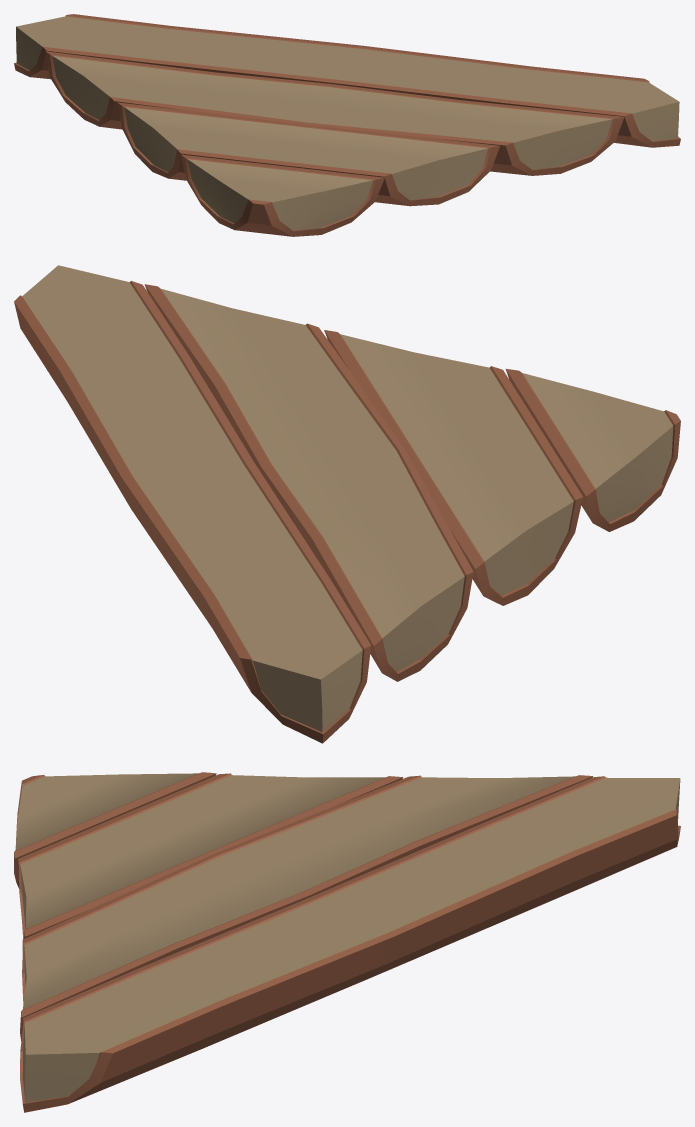
The model's file is LightWoodFloorMedium4BeamWedgePlatform1.fbx.
3 renders of one model, top to bottom at view 1: azimuth 30°, elevation 25°; view 2: azimuth 150°, elevation 25°; view 3: azimuth 270°, elevation 25°, orthographic. The views are drawn at different scales.
Parts seen in each view (by area): view 1: LightWoodFloorMedium4BeamWedgePlatform1; view 2: LightWoodFloorMedium4BeamWedgePlatform1; view 3: LightWoodFloorMedium4BeamWedgePlatform1.
Boxes of the visible parts, left/top/right/bottom form: LightWoodFloorMedium4BeamWedgePlatform1: left=14, top=14, right=680, bottom=236; LightWoodFloorMedium4BeamWedgePlatform1: left=14, top=265, right=680, bottom=743; LightWoodFloorMedium4BeamWedgePlatform1: left=14, top=772, right=680, bottom=1112.
Bounding box in the file's own units: 485 × 48.02 × 484.
